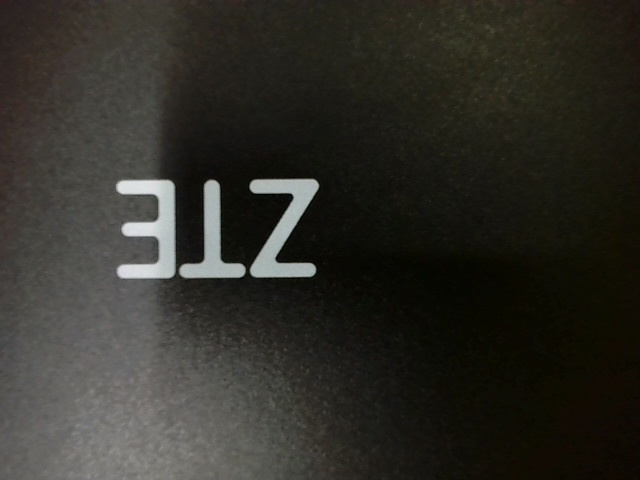AN_ZTE: (99, 160, 324, 296)
